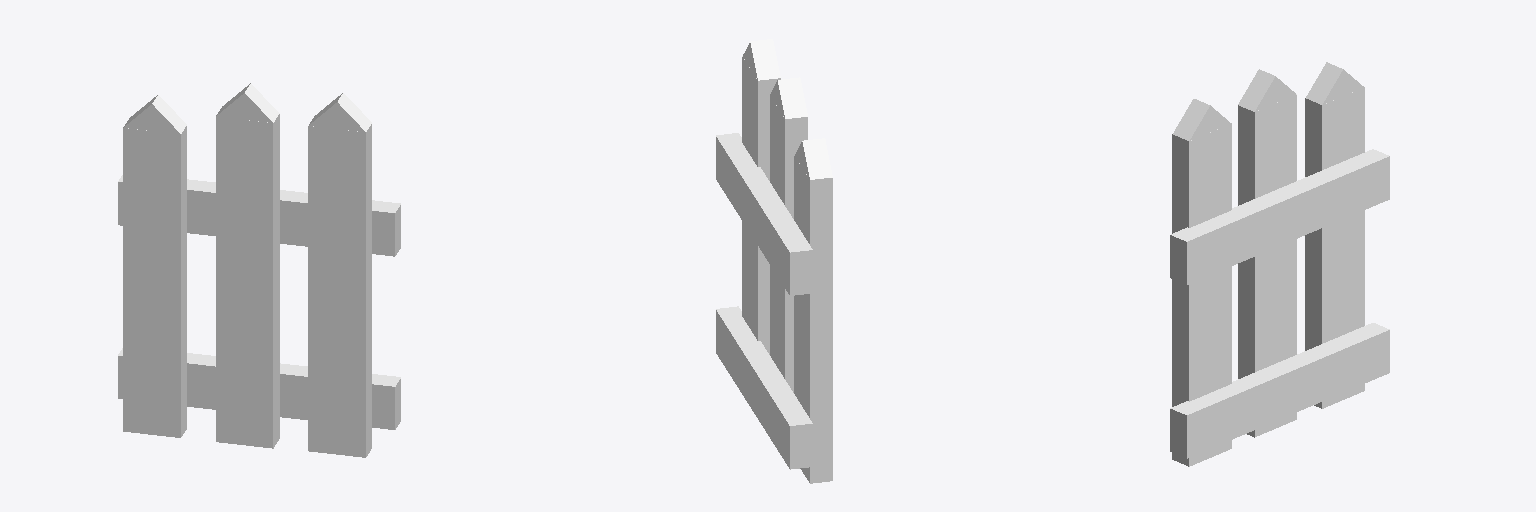
Rendered from thin_white_picket_fence_ne.obj.
The picture shows the model from 3 angles: view 1: azimuth 30°, elevation 25°; view 2: azimuth 150°, elevation 25°; view 3: azimuth 270°, elevation 25°; orthographic projection.
Visible parts, largest first — view 1: cube.007, cube.005, cube.002, cube, cube.001, cube.004, cube.003, cube.006; view 2: cube.002, cube, cube.001, cube.007, cube.005, cube.003, cube.006, cube.004; view 3: cube.007, cube.005, cube.001, cube, cube.002, cube.003, cube.006, cube.004.
Part boxes in pixels (x1,y1,x2,y2): cube.007: (308, 124, 371, 457); cube.005: (216, 114, 279, 448); cube.002: (123, 126, 186, 437); cube: (118, 175, 400, 256); cube.001: (118, 348, 400, 429); cube.004: (216, 83, 279, 122); cube.003: (123, 95, 186, 133); cube.006: (309, 93, 371, 131); cube.002: (794, 156, 832, 483); cube: (716, 133, 812, 295); cube.001: (716, 306, 812, 469); cube.007: (742, 56, 780, 354); cube.005: (770, 96, 807, 392); cube.003: (795, 138, 832, 179); cube.006: (743, 39, 780, 80); cube.004: (770, 77, 807, 118); cube.007: (1172, 124, 1231, 466); cube.005: (1238, 94, 1296, 437); cube.001: (1170, 323, 1389, 458); cube: (1170, 149, 1389, 284); cube.002: (1305, 87, 1364, 408); cube.003: (1306, 62, 1363, 104); cube.006: (1173, 99, 1231, 140); cube.004: (1238, 69, 1295, 111).
Bounding box in the file's own units: 0.5966 × 1.02 × 0.5745.